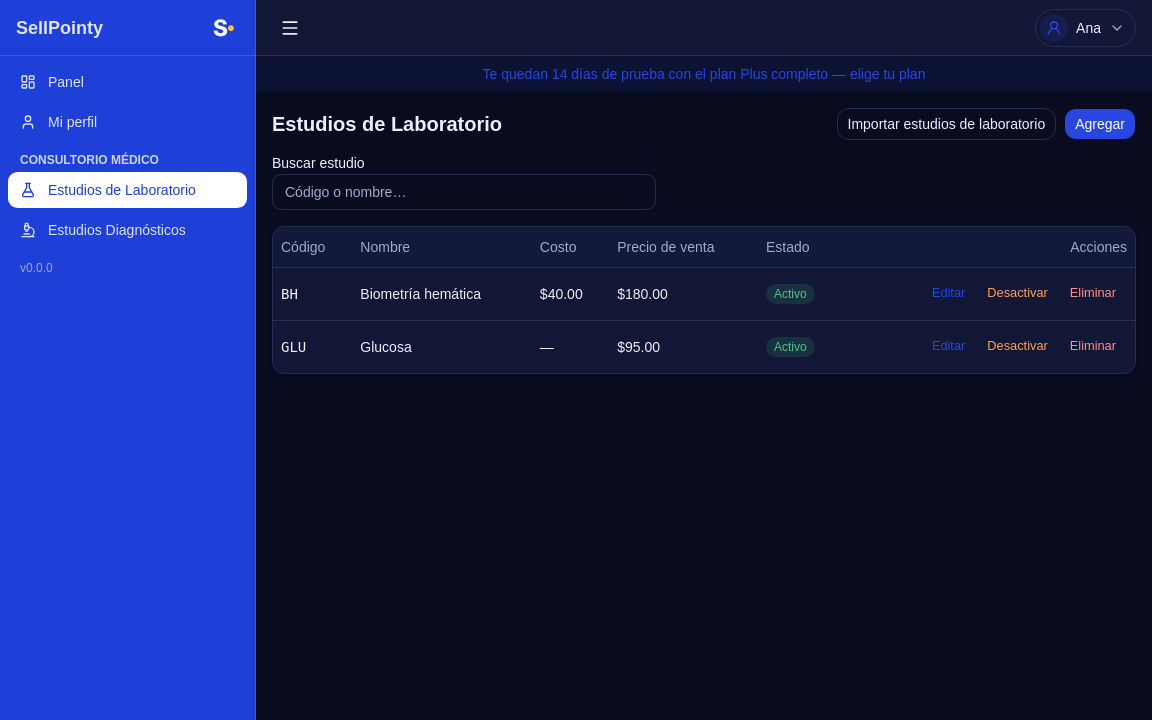
Test case: catálogo lab (F9-CLINIC-WEB-04/05) › la etiqueta del costo dice la base del negocio (F9-COSTMODE-10)
Click the button "Agregar": (1100, 124) [1064, 108, 1136, 140]
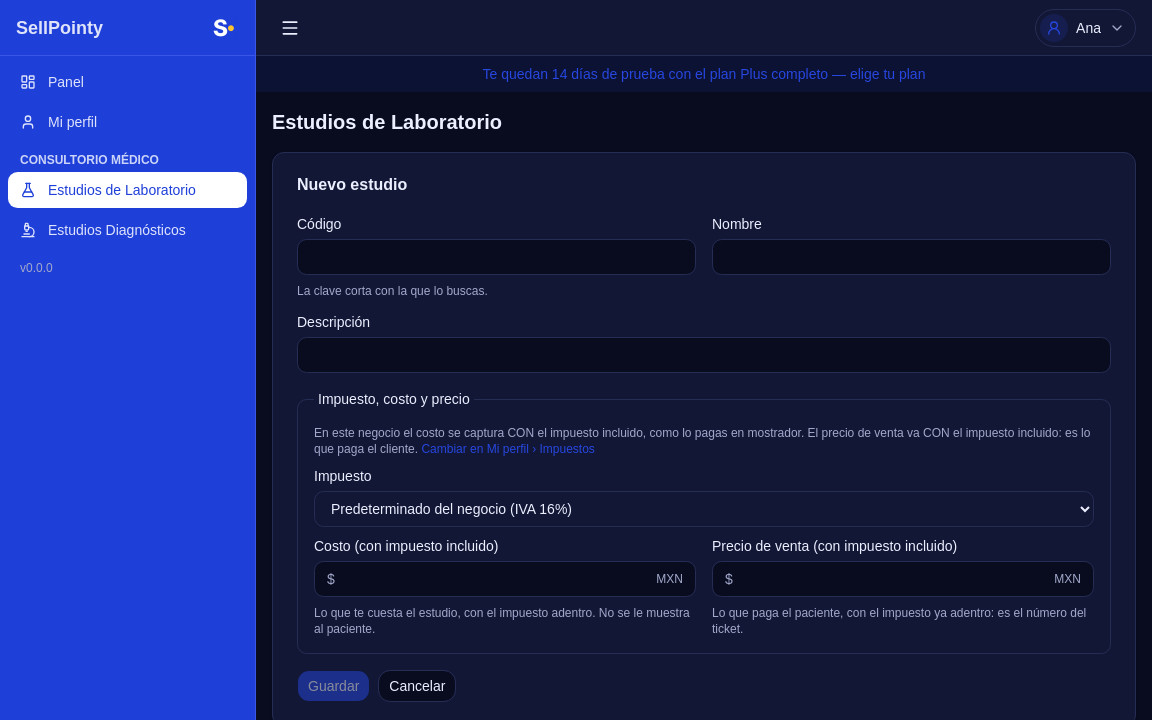
Expected: the text "con el impuesto adentro" is shown, [314, 606, 690, 636]
